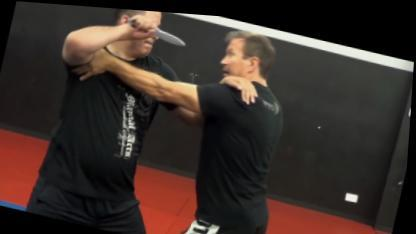knife: (123, 7, 193, 48)
